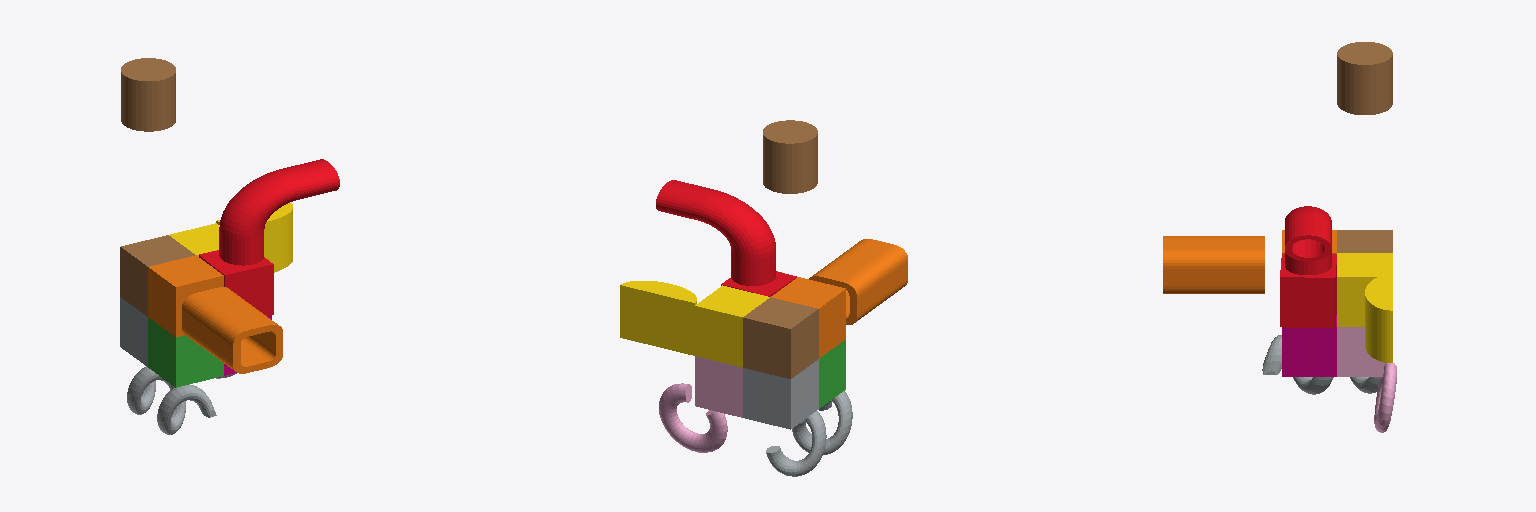
The model's file is tinker.obj.
3 views of the same model, side by side, from view 1: azimuth 30°, elevation 25°; view 2: azimuth 150°, elevation 25°; view 3: azimuth 270°, elevation 25° (orthographic).
Parts seen in each view (by area): view 1: obj_0; view 2: obj_0; view 3: obj_0.
Part boxes in pixels (left/top/right/bottom): obj_0: left=120, top=58, right=339, bottom=434; obj_0: left=620, top=120, right=907, bottom=476; obj_0: left=1163, top=42, right=1396, bottom=432.
Bounding box in the file's own units: 76 × 136 × 84.67.